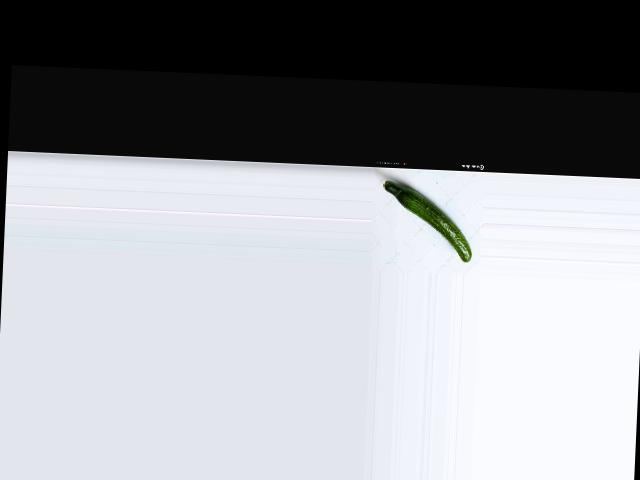cucumber: (379, 180, 473, 262)
